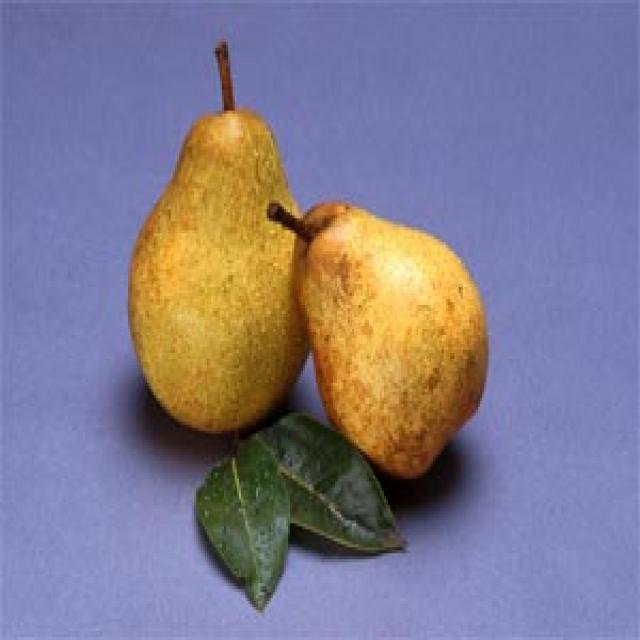pear: (126, 42, 309, 440), (284, 170, 493, 488)
